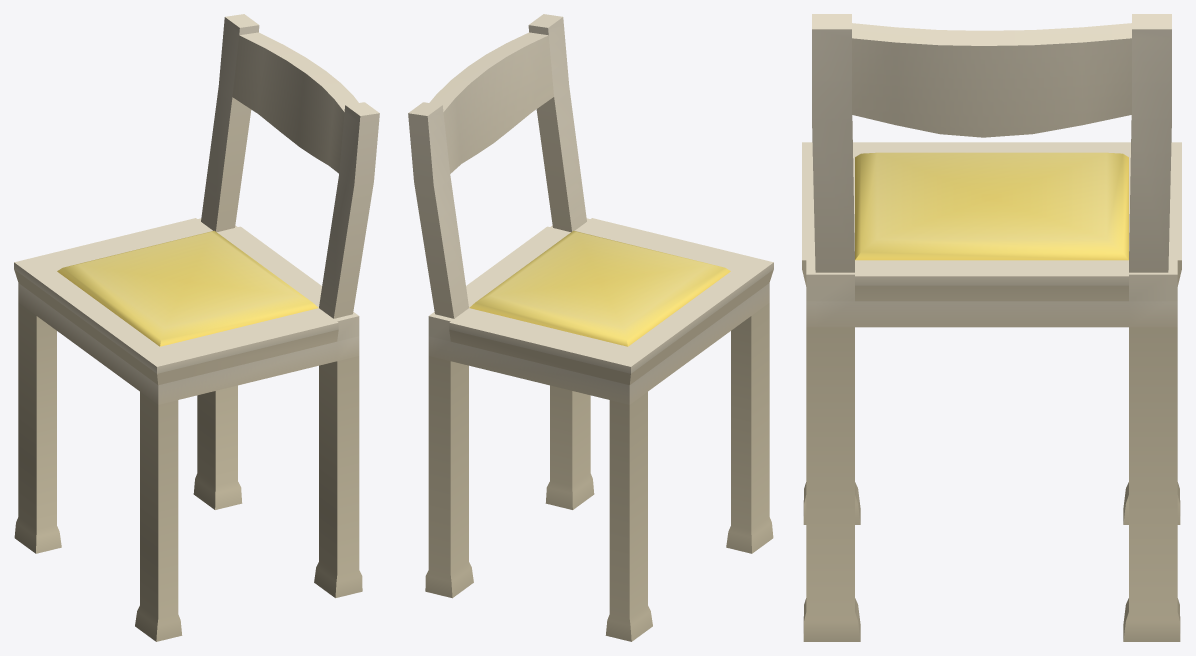
The model's file is chair.fbx.
3 views of the same model, side by side, from view 1: azimuth 30°, elevation 25°; view 2: azimuth 150°, elevation 25°; view 3: azimuth 270°, elevation 25° (orthographic). The views are drawn at different scales.
Parts seen in each view (by area): view 1: ChairForDesk; view 2: ChairForDesk; view 3: ChairForDesk.
Part boxes in pixels (x1,y1,x2,y2): ChairForDesk: [14, 14, 379, 641]; ChairForDesk: [408, 14, 773, 641]; ChairForDesk: [802, 14, 1181, 641].
Size of the model in its own units: 421 by 803 by 440.
